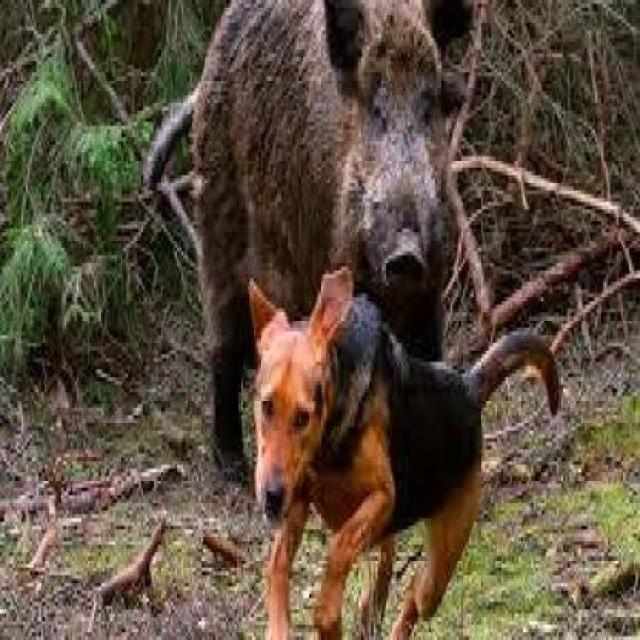wildboar: (141, 0, 480, 495)
